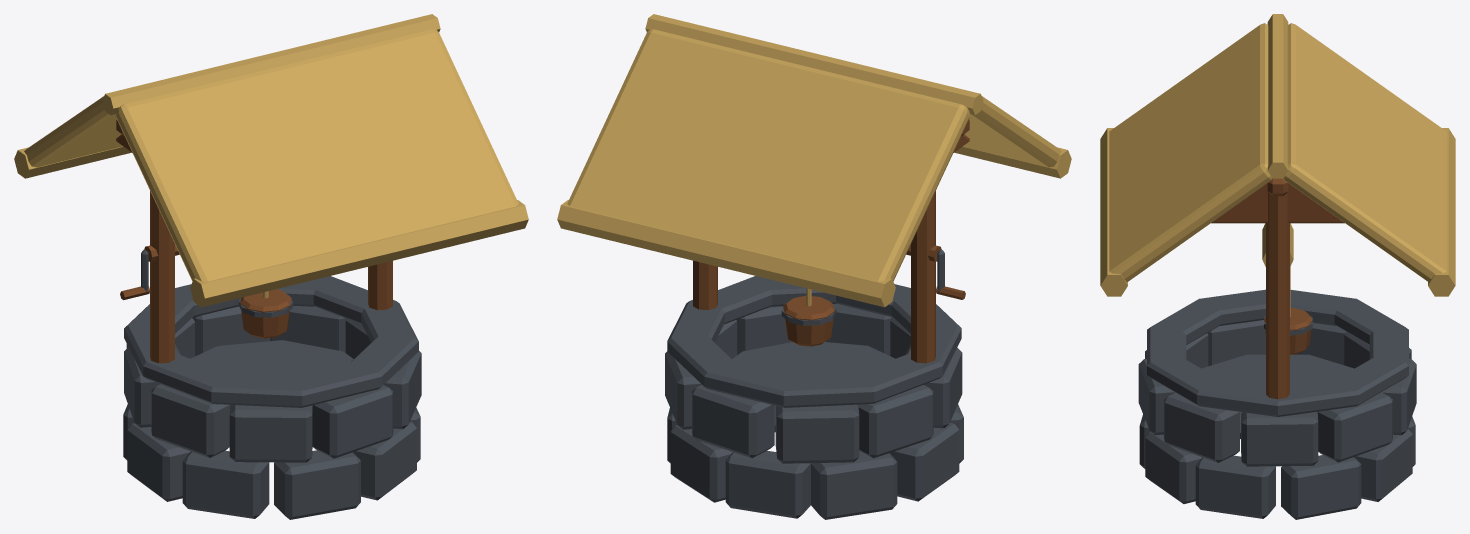
The model's file is village_well.obj.
The picture shows the model from 3 angles, left to right: view 1: azimuth 30°, elevation 25°; view 2: azimuth 150°, elevation 25°; view 3: azimuth 270°, elevation 25°; orthographic projection. The views are drawn at different scales.
Parts seen in each view (by area): view 1: village_well; view 2: village_well; view 3: village_well.
Part boxes in pixels (x1,y1,x2,y2): village_well: [14, 14, 528, 519]; village_well: [557, 14, 1071, 519]; village_well: [1100, 14, 1455, 519].
Bounding box in the file's own units: 2.04 × 2.4 × 2.06.
